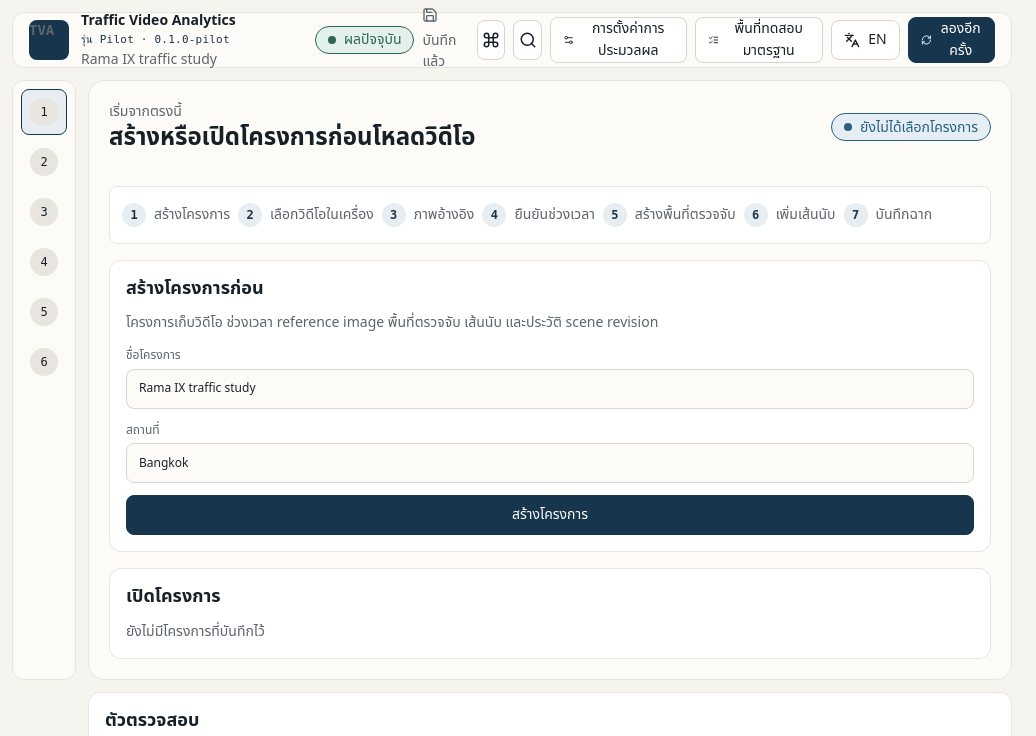
Test: API-backed shell › opens the benchmark workspace with an explicit empty corpus state
Click the button "EN": (865, 40) [831,20,900,60]
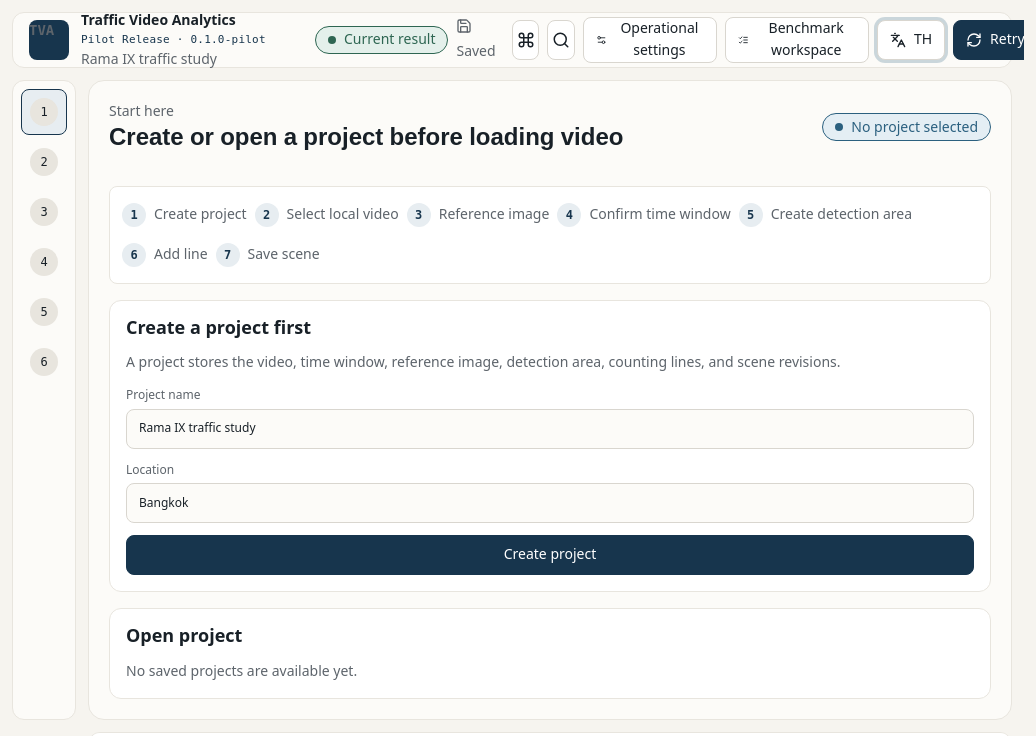
Click the button "Benchmark workspace": (797, 40) [725,17,869,63]
(page scrolled)
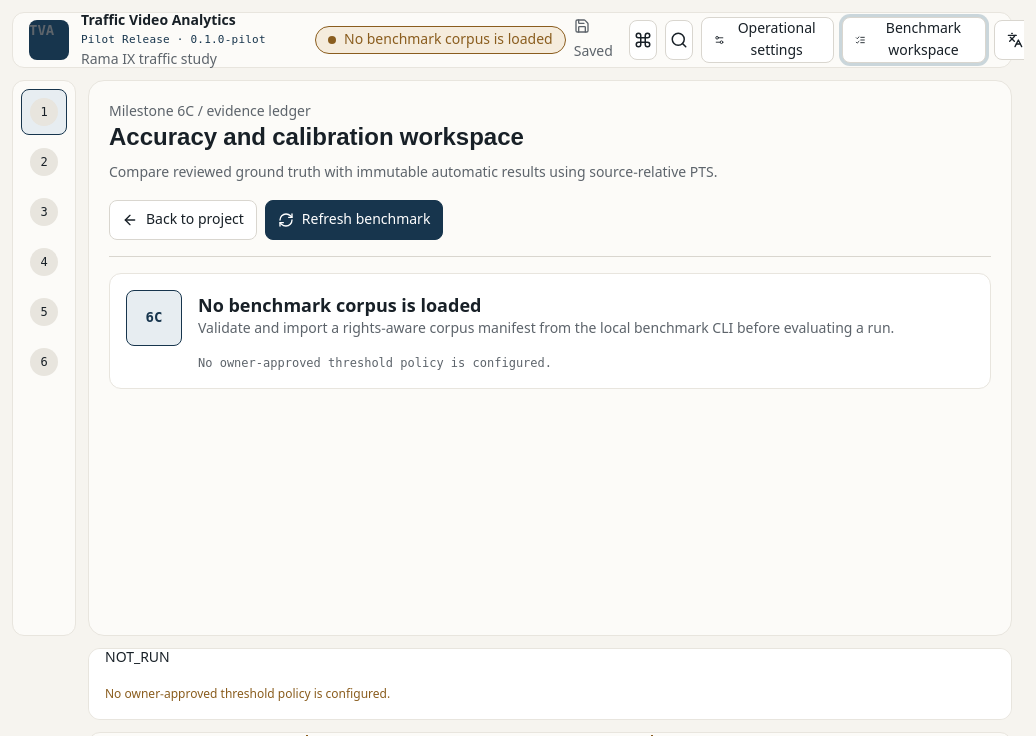
Now the heading "No benchmark corpus is loaded" is shown, box [198,293,481,320]
Now the text "No owner-approved threshold policy is configured." below "NOT_RUN" is shown, box [105,685,390,703]
